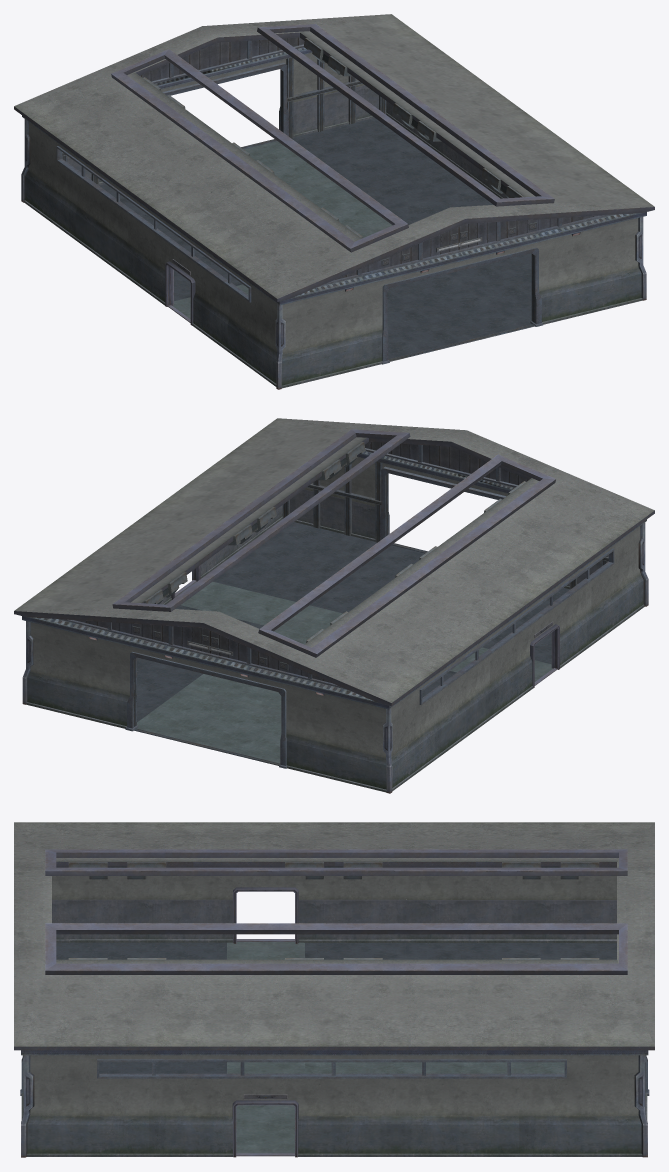
File: BuildingJk.glb
3 renders of one model, top to bottom at view 1: azimuth 30°, elevation 25°; view 2: azimuth 150°, elevation 25°; view 3: azimuth 270°, elevation 25°, orthographic. The views are drawn at different scales.
Visible parts, largest first — view 1: xiutz_building_jk_0; view 2: xiutz_building_jk_0; view 3: xiutz_building_jk_0.
Boxes of the visible parts, x1,y1,x2,y2 form: xiutz_building_jk_0: (14, 14, 654, 389); xiutz_building_jk_0: (14, 418, 654, 793); xiutz_building_jk_0: (14, 822, 654, 1157).
Bounding box in the file's own units: 33.41 × 10.88 × 40.35.
2 materials, 2 textured.
